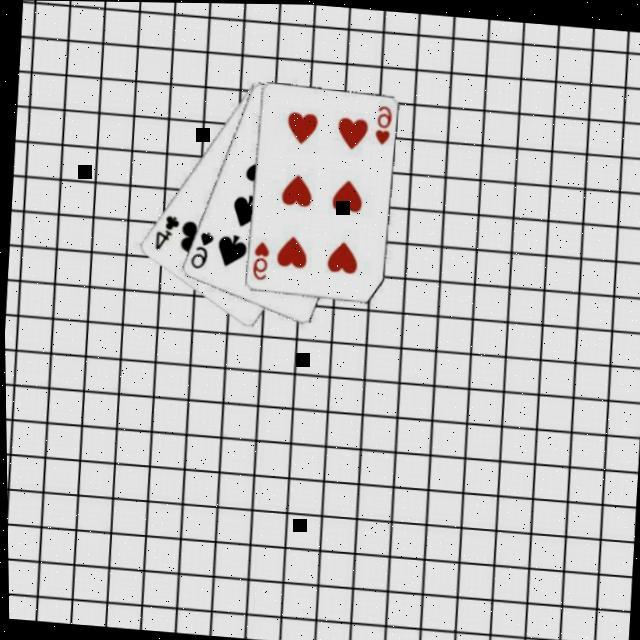4C: (147, 210, 180, 254)
6H: (244, 238, 269, 282), (368, 102, 392, 146)
9S: (183, 226, 215, 272)
